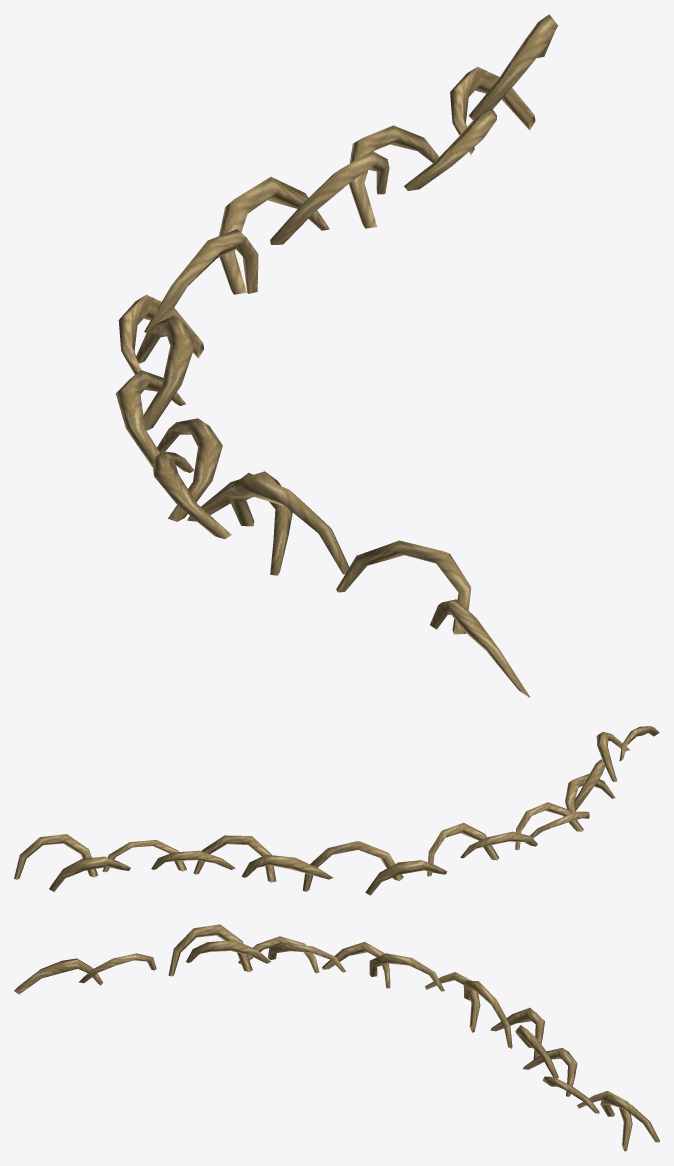
File: EKH_BARRELROOM_PS_JA1_TORUS03.fbx
The picture shows the model from 3 angles, top to bottom: view 1: azimuth 30°, elevation 25°; view 2: azimuth 150°, elevation 25°; view 3: azimuth 270°, elevation 25°; orthographic projection. The views are drawn at different scales.
Parts seen in each view (by area): view 1: EKH_BARRELROOM_PS_JA1_TORUS03; view 2: EKH_BARRELROOM_PS_JA1_TORUS03; view 3: EKH_BARRELROOM_PS_JA1_TORUS03.
Part boxes in pixels (x1,y1,x2,y2): EKH_BARRELROOM_PS_JA1_TORUS03: [115, 14, 558, 697]; EKH_BARRELROOM_PS_JA1_TORUS03: [14, 726, 659, 895]; EKH_BARRELROOM_PS_JA1_TORUS03: [14, 924, 659, 1151].
Size of the model in its own units: 47657 by 7050 by 69542.
1 material, 1 textured.
